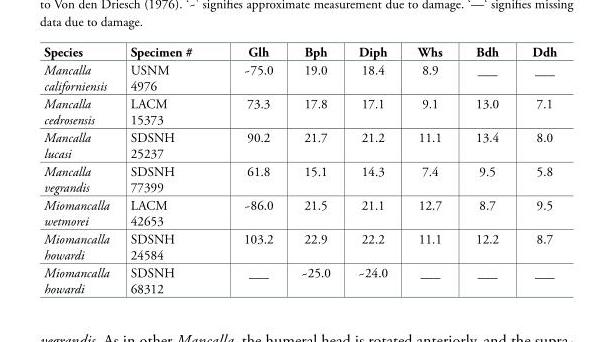table: (43, 43, 556, 296)
table column: (119, 43, 217, 296), (43, 43, 119, 296), (217, 43, 286, 296), (343, 43, 402, 296), (286, 43, 343, 296), (402, 43, 458, 296), (458, 43, 514, 296), (514, 43, 556, 296)
table column header: (43, 43, 556, 60)
table row: (43, 60, 556, 94), (43, 94, 556, 128), (43, 128, 556, 162), (43, 162, 556, 196), (43, 229, 556, 263), (43, 196, 556, 229), (43, 263, 556, 296), (43, 43, 556, 60)
